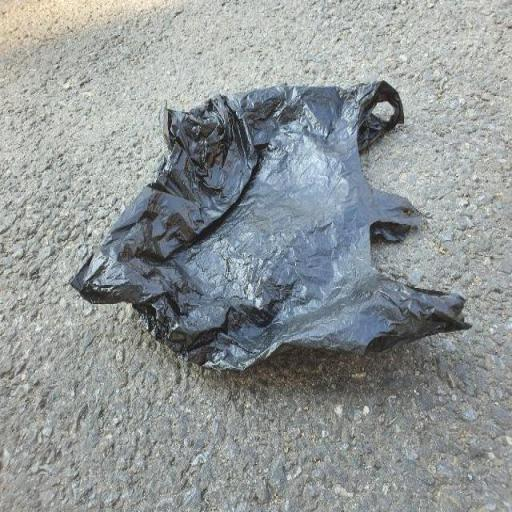plastic-bag: (66, 77, 472, 376)
